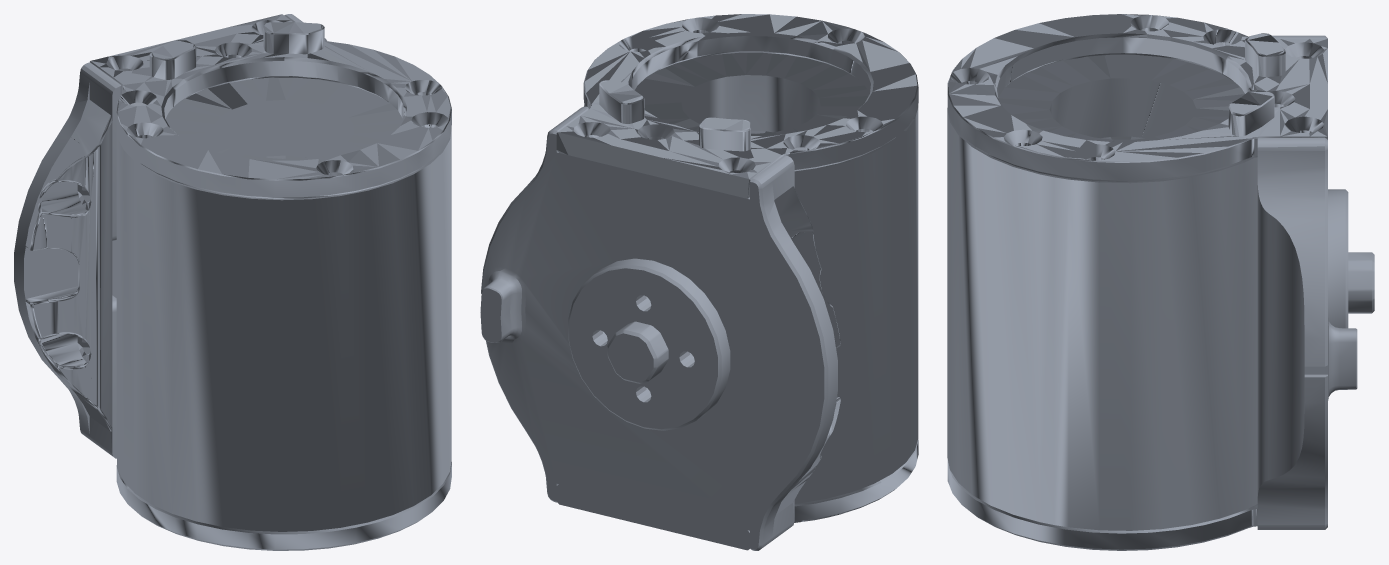
3 views of the same model, side by side, from view 1: azimuth 30°, elevation 25°; view 2: azimuth 150°, elevation 25°; view 3: azimuth 270°, elevation 25° (orthographic). The views are drawn at different scales.
Size of the model in its own units: 0.0719 by 0.0775 by 0.073.
